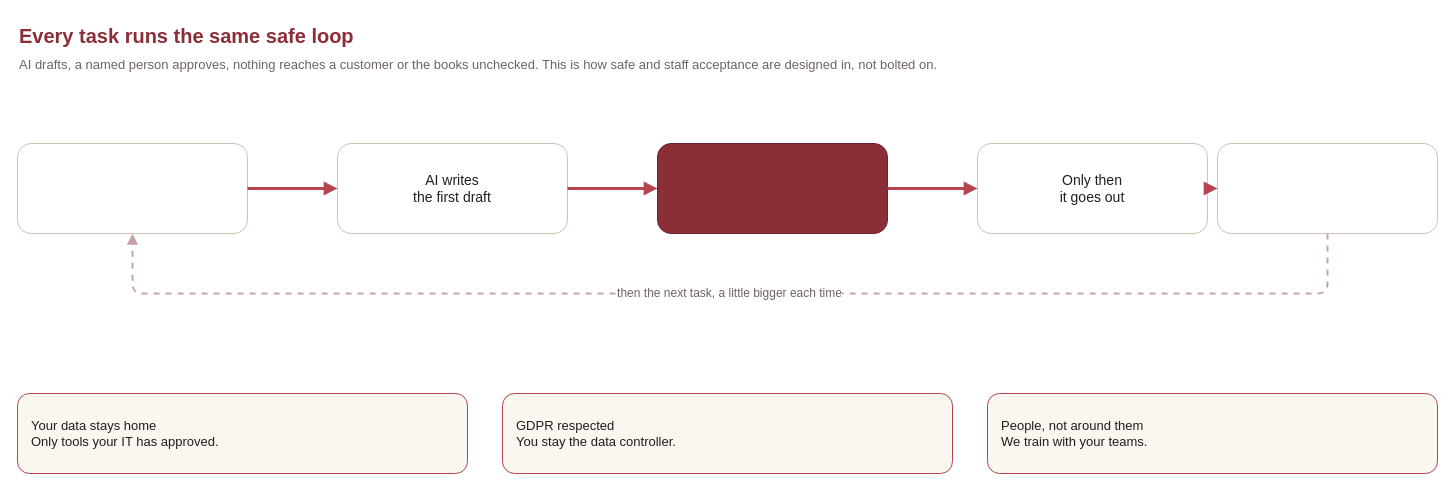
The diagram is 1455 pixels wide and 491 high, and some of its shapes have lost their labels. The shapes that lost their labels are listed below. From the top down, each one's centre as x and y in pixels, then its label:
At point 132,188: "Look at the work together".
At point 772,188: "Your named person checks and approves".
At point 1327,188: "Count the hours saved".
